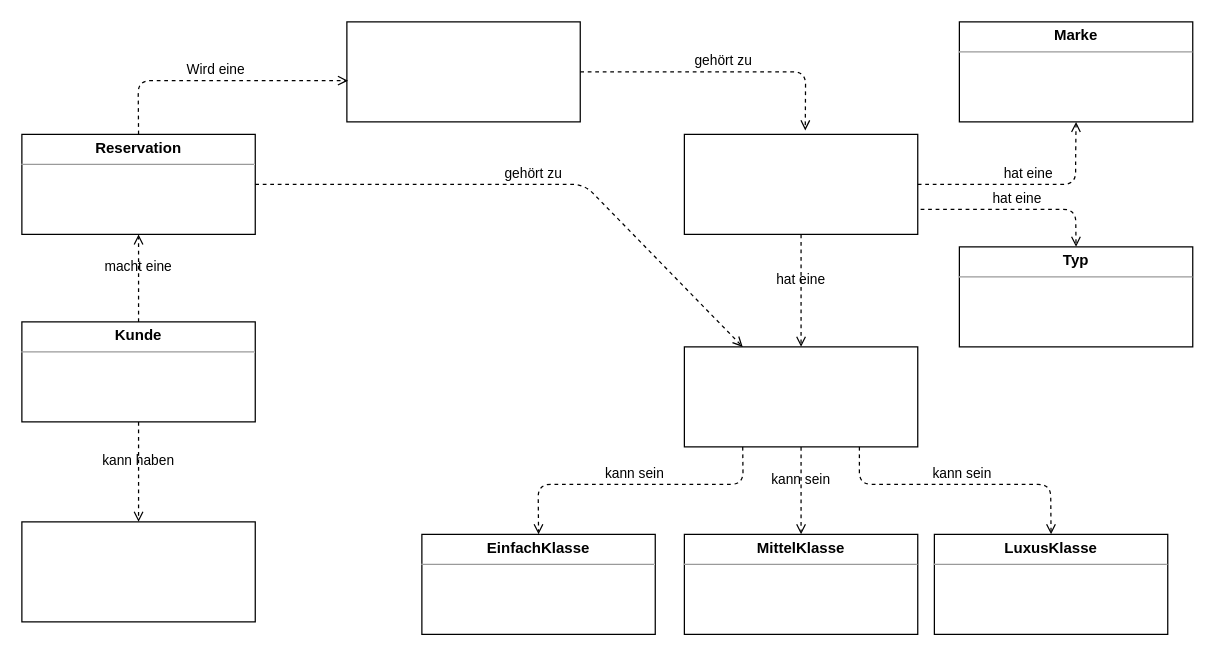
This 1215x656 diagram has some shape labels left out. Here are the shapes that lost their labels. From the top down, the centre of each, then its label:
the point at 463,71: Vertrag
the point at 800,183: Auto
the point at 800,396: Klasse - tagesgebür
the point at 138,571: Adresse
